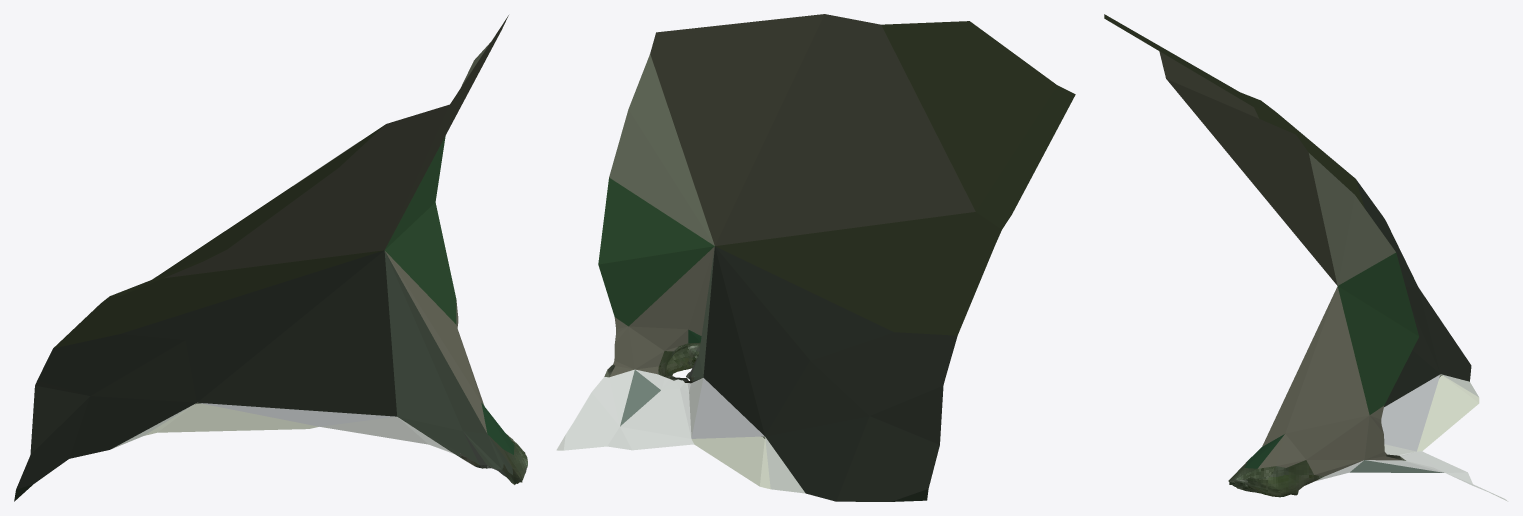
The picture shows the model from 3 angles, left to right: view 1: azimuth 30°, elevation 25°; view 2: azimuth 150°, elevation 25°; view 3: azimuth 270°, elevation 25°; orthographic projection. The views are drawn at different scales.
Size of the model in its own units: 1.97 by 1.97 by 1.96.
Materials: 1 (1 with a texture image).
